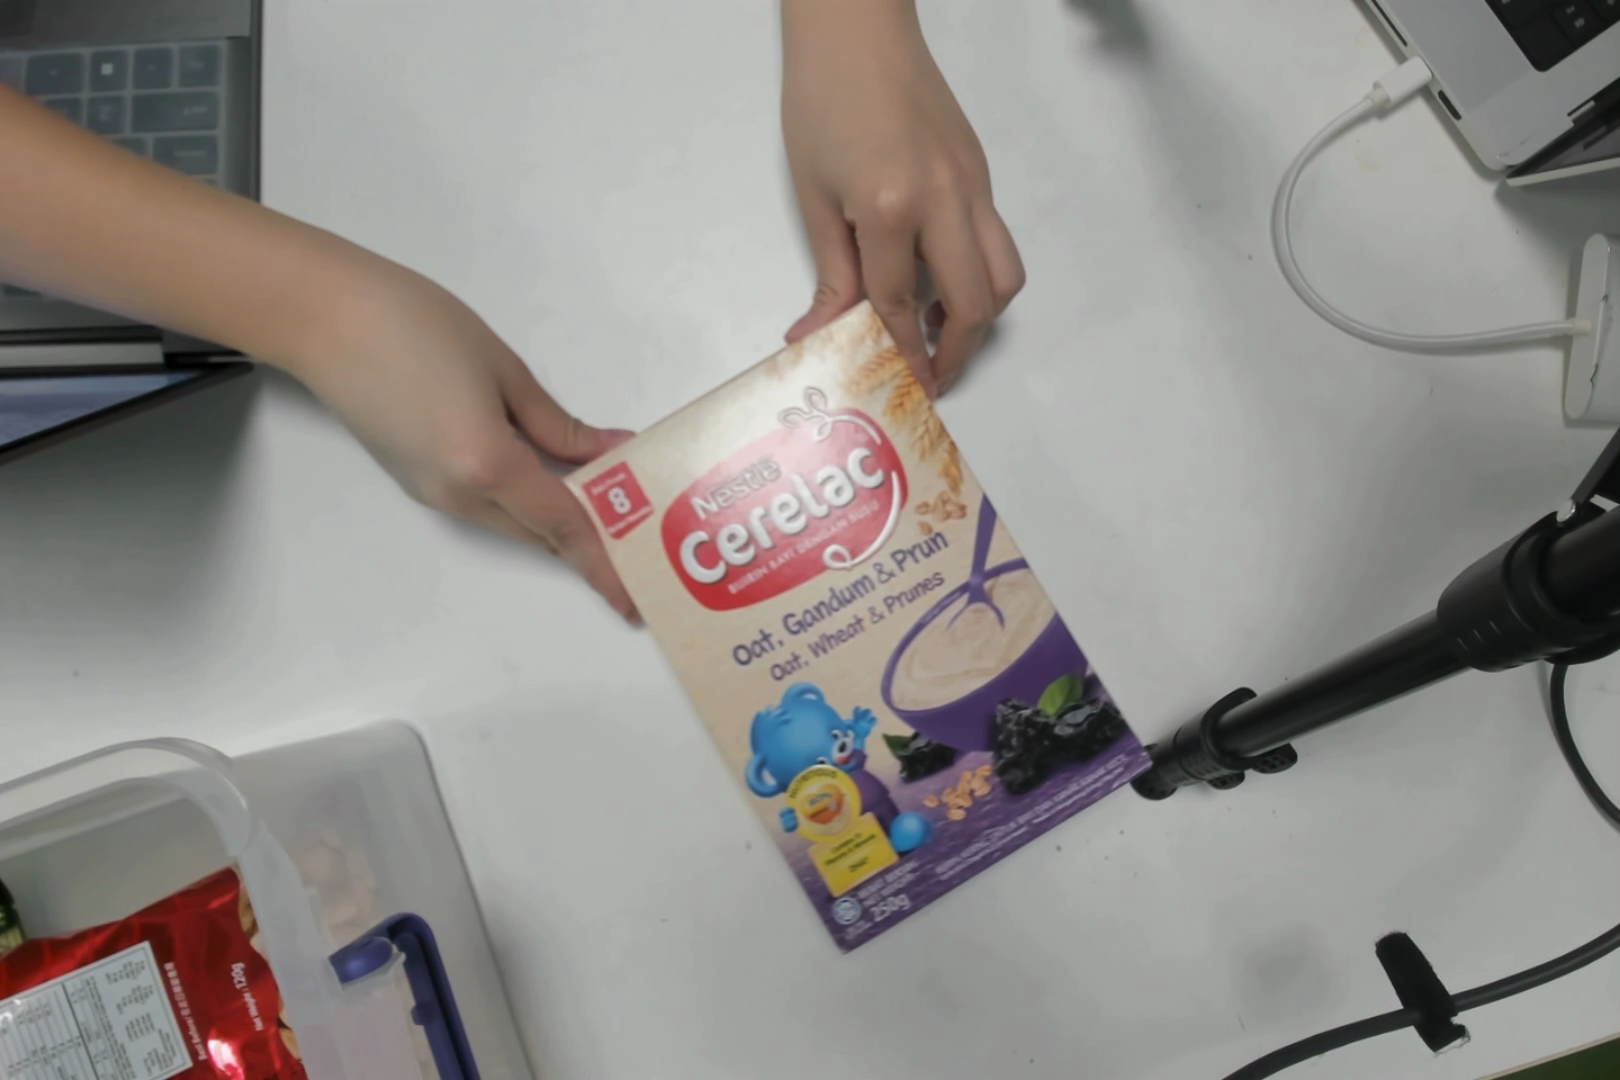d: (604, 444, 1038, 939)
